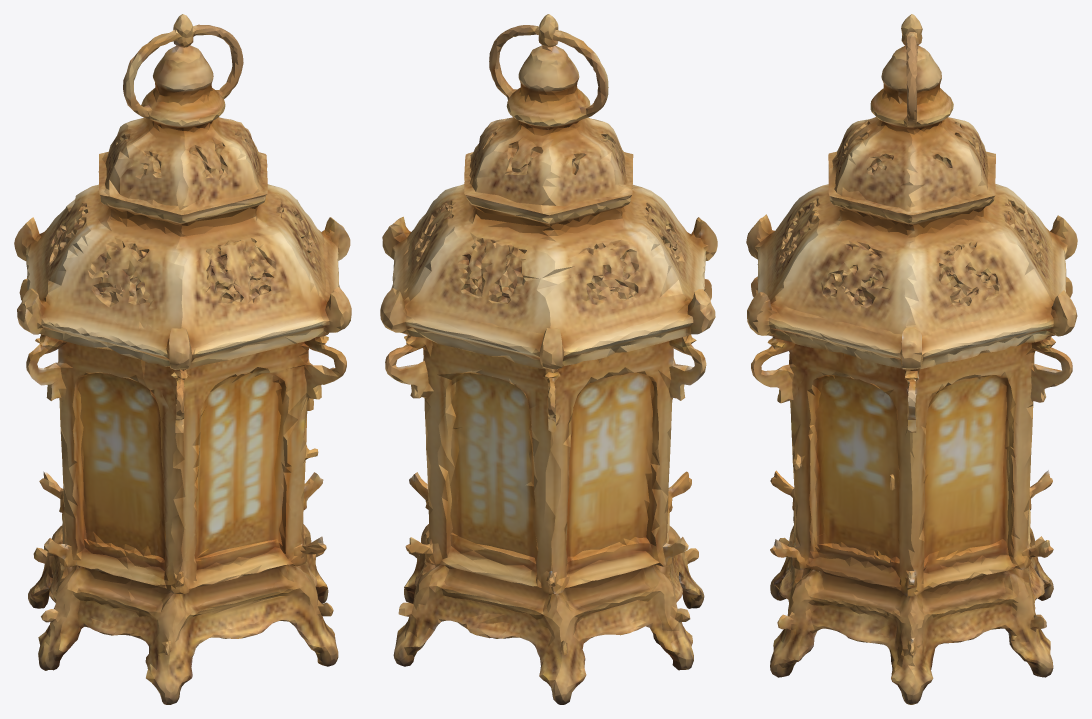
3 renders of one model, left to right at view 1: azimuth 30°, elevation 25°; view 2: azimuth 150°, elevation 25°; view 3: azimuth 270°, elevation 25°, orthographic.
Parts seen in each view (by area): view 1: LanternOfTheDeepBurrow; view 2: LanternOfTheDeepBurrow; view 3: LanternOfTheDeepBurrow.
Part boxes in pixels (x1,y1,x2,y2): LanternOfTheDeepBurrow: (14,14,351,704); LanternOfTheDeepBurrow: (380,14,717,704); LanternOfTheDeepBurrow: (746,14,1077,704).
Bounding box in the file's own units: 1.04 × 1.9 × 0.9175.
1 material, 1 textured.
